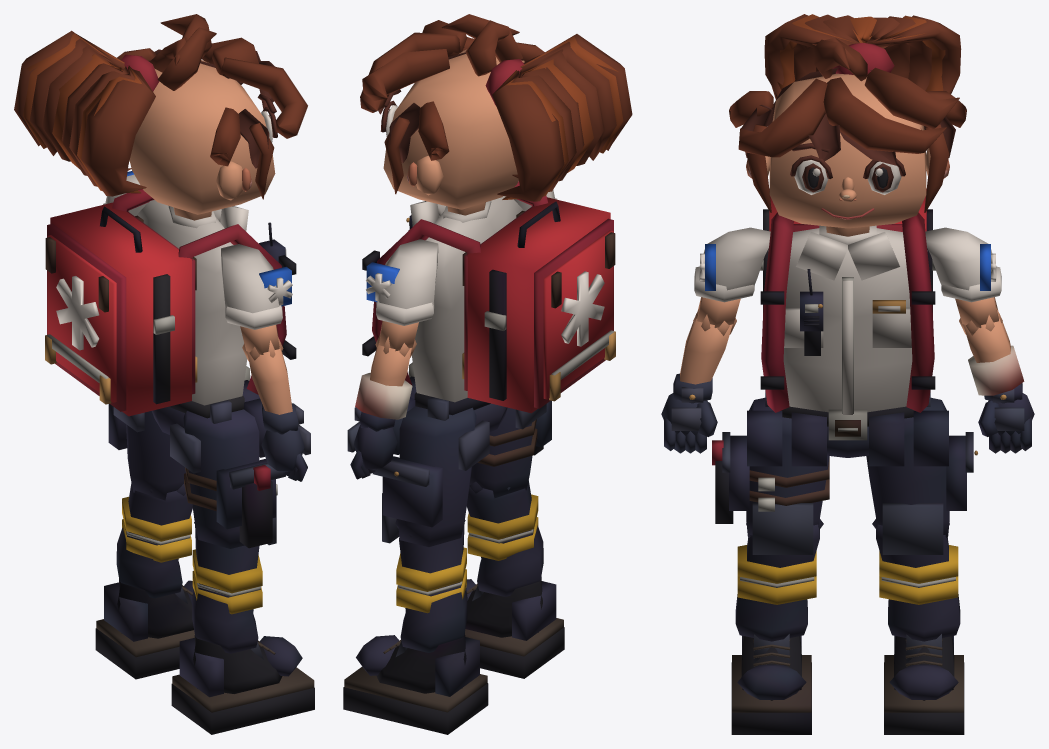
Rendered from npc.paramedic.aftermath.lod1.glb.
3 renders of one model, left to right at view 1: azimuth 30°, elevation 25°; view 2: azimuth 150°, elevation 25°; view 3: azimuth 270°, elevation 25°, orthographic.
Parts seen in each view (by area): view 1: head, torso, legR, footR, footL, shinR, shinL, armR, legL, foreArmR, hip, handR; view 2: head, torso, legL, footL, footR, shinL, shinR, armL, legR, foreArmL, hip, handL; view 3: head, torso, hip, legR, legL, footR, footL, shinR, shinL, armL, armR, foreArmL (+3 smaller).
Boxes of the visible parts, <box> form: head: <box>14,14,307,220</box>; torso: <box>45,189,296,416</box>; legR: <box>170,409,285,548</box>; footR: <box>171,635,314,734</box>; footL: <box>95,579,194,679</box>; shinR: <box>192,522,262,653</box>; shinL: <box>116,483,192,598</box>; armR: <box>221,244,292,354</box>; legL: <box>108,403,185,500</box>; foreArmR: <box>242,337,303,434</box>; hip: <box>152,366,266,457</box>; handR: <box>261,424,310,481</box>; head: <box>360,14,632,215</box>; torso: <box>362,181,615,413</box>; legL: <box>372,406,489,546</box>; footL: <box>343,633,488,734</box>; footR: <box>465,576,564,678</box>; shinL: <box>395,519,467,652</box>; shinR: <box>466,480,543,596</box>; armL: <box>366,239,438,351</box>; legR: <box>469,400,551,498</box>; foreArmL: <box>354,333,416,431</box>; hip: <box>392,362,507,454</box>; handL: <box>347,421,397,479</box>; head: <box>729,14,966,236</box>; torso: <box>760,189,935,414</box>; hip: <box>747,390,948,466</box>; legR: <box>712,397,829,554</box>; legL: <box>866,397,977,554</box>; footR: <box>731,634,811,734</box>; footL: <box>884,634,964,734</box>; shinR: <box>735,519,823,641</box>; shinL: <box>872,519,960,641</box>; armL: <box>925,227,1001,327</box>; armR: <box>694,227,770,327</box>; foreArmL: <box>959,308,1024,403</box>.
Bounding box in the file's own units: 0.6145 × 1.81 × 0.9277.
